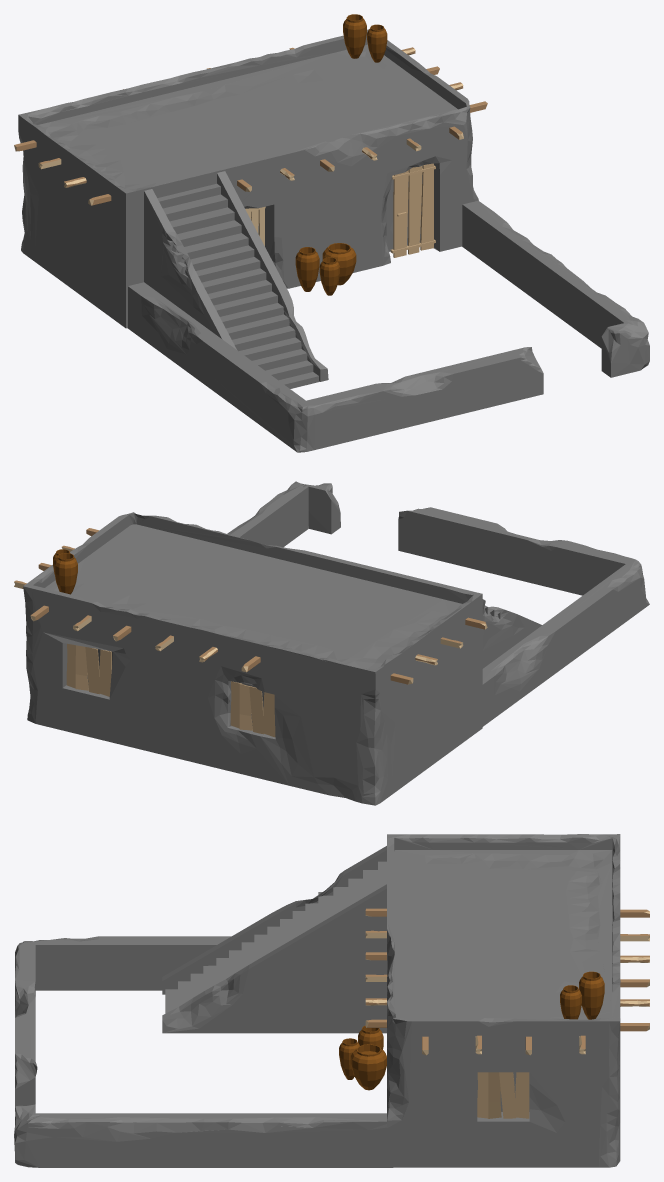
Rendered from SM_house_egypt_08.fbx.
The picture shows the model from 3 angles, top to bottom: view 1: azimuth 30°, elevation 25°; view 2: azimuth 150°, elevation 25°; view 3: azimuth 270°, elevation 25°; orthographic projection. The views are drawn at different scales.
Parts seen in each view (by area): view 1: Object155; view 2: Object155; view 3: Object155.
Boxes of the visible parts, box(x1,y1,x2,y2) form: Object155: box(14, 14, 649, 452); Object155: box(14, 481, 649, 805); Object155: box(14, 834, 649, 1167).
Bounding box in the file's own units: 394 × 502 × 155.
